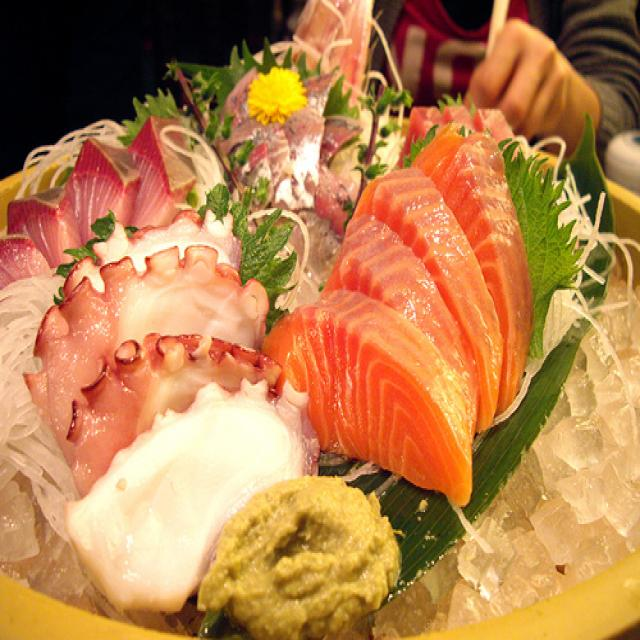刺身生食: (0, 0, 614, 640)
